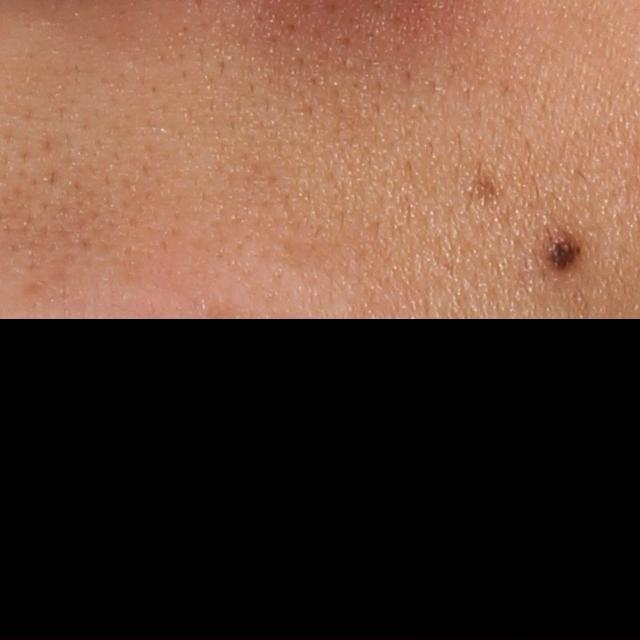nevus: (534, 230, 582, 275), (457, 166, 499, 204)
